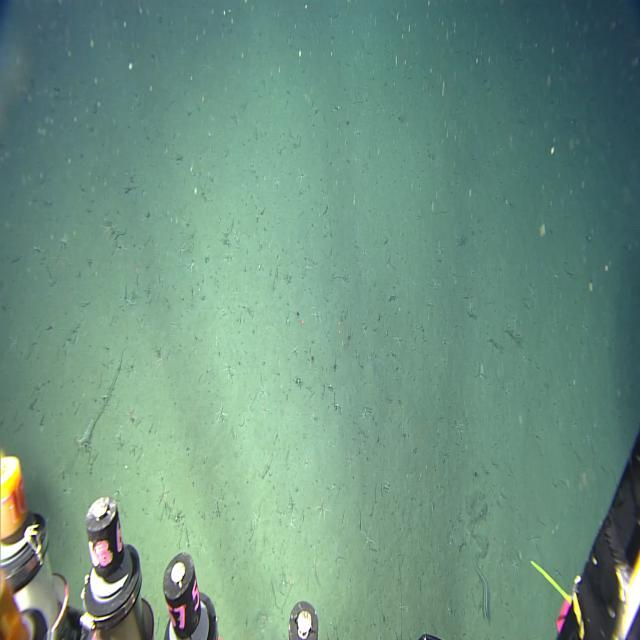Brittle Star: (312, 492, 334, 524), (152, 347, 169, 374), (293, 162, 310, 188), (282, 568, 299, 594)
Not Brittle Star: (471, 544, 494, 626)
